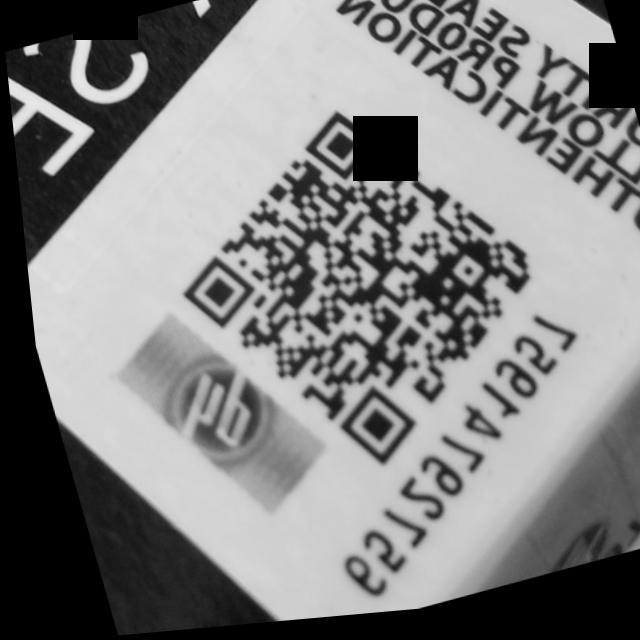QR_CODE: (125, 59, 580, 521)
